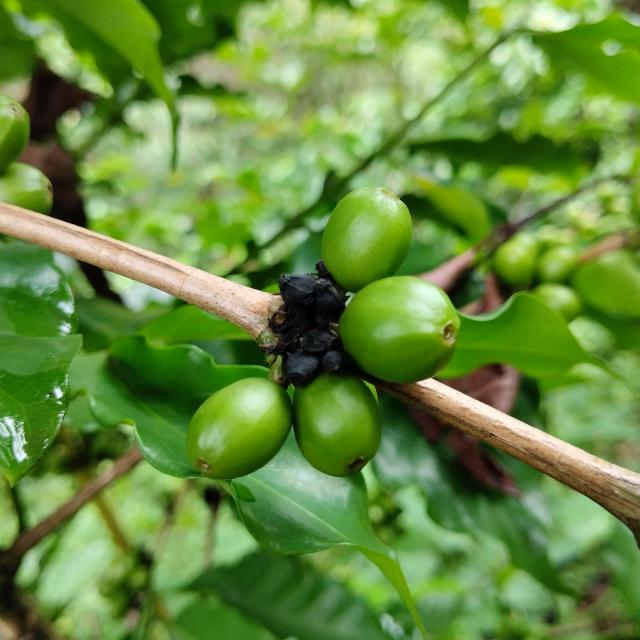green: (339, 276, 461, 384), (186, 378, 293, 480), (322, 186, 412, 292), (294, 373, 382, 477)
